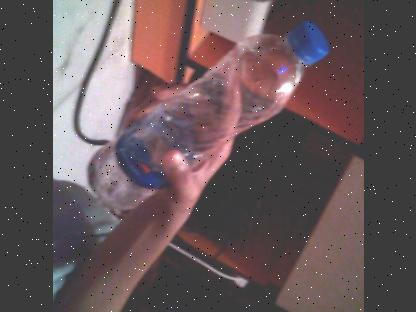Plastic Bottle: (80, 19, 330, 223)
